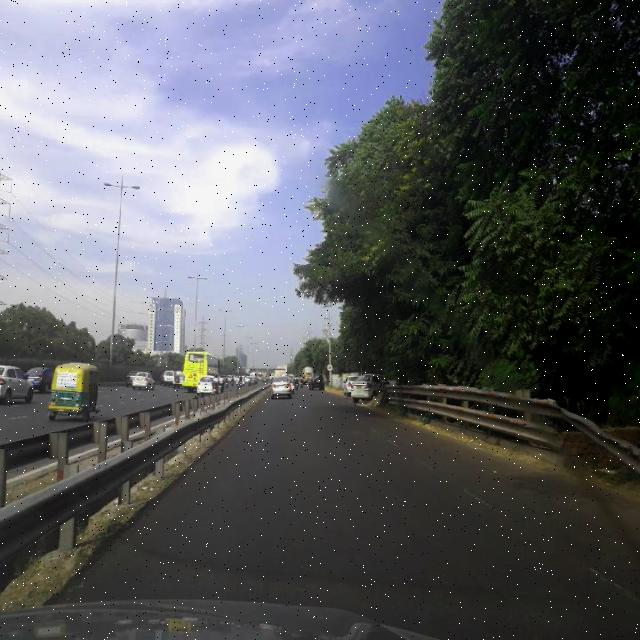D44: (464, 484, 528, 534)
